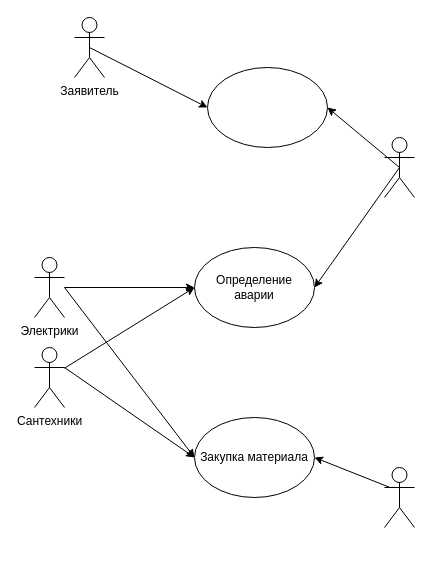
The diagram is 445 pixels wide and 566 high, and some of its shapes have lost their labels. The centre of each missing label's shape, as x and y in pixels:
"Бухгалтер" goes at point 399,497.
"Оператор" goes at point 399,167.
"Поступление об аварии" goes at point 267,107.
